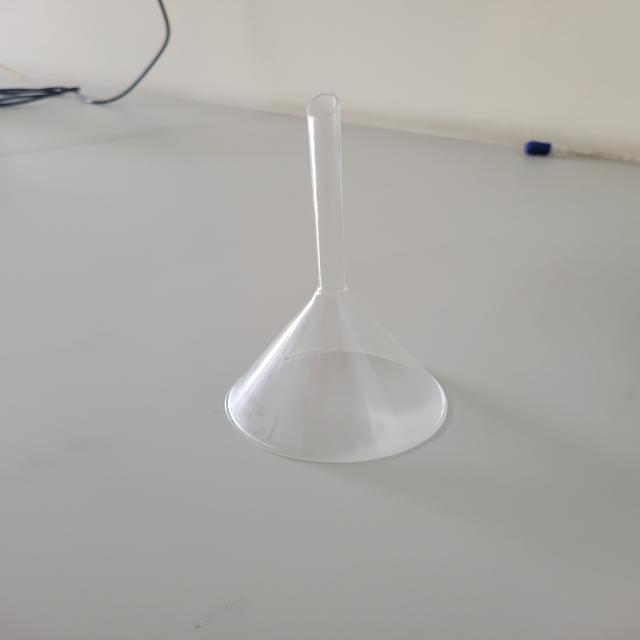Funnel: (193, 78, 475, 463)
